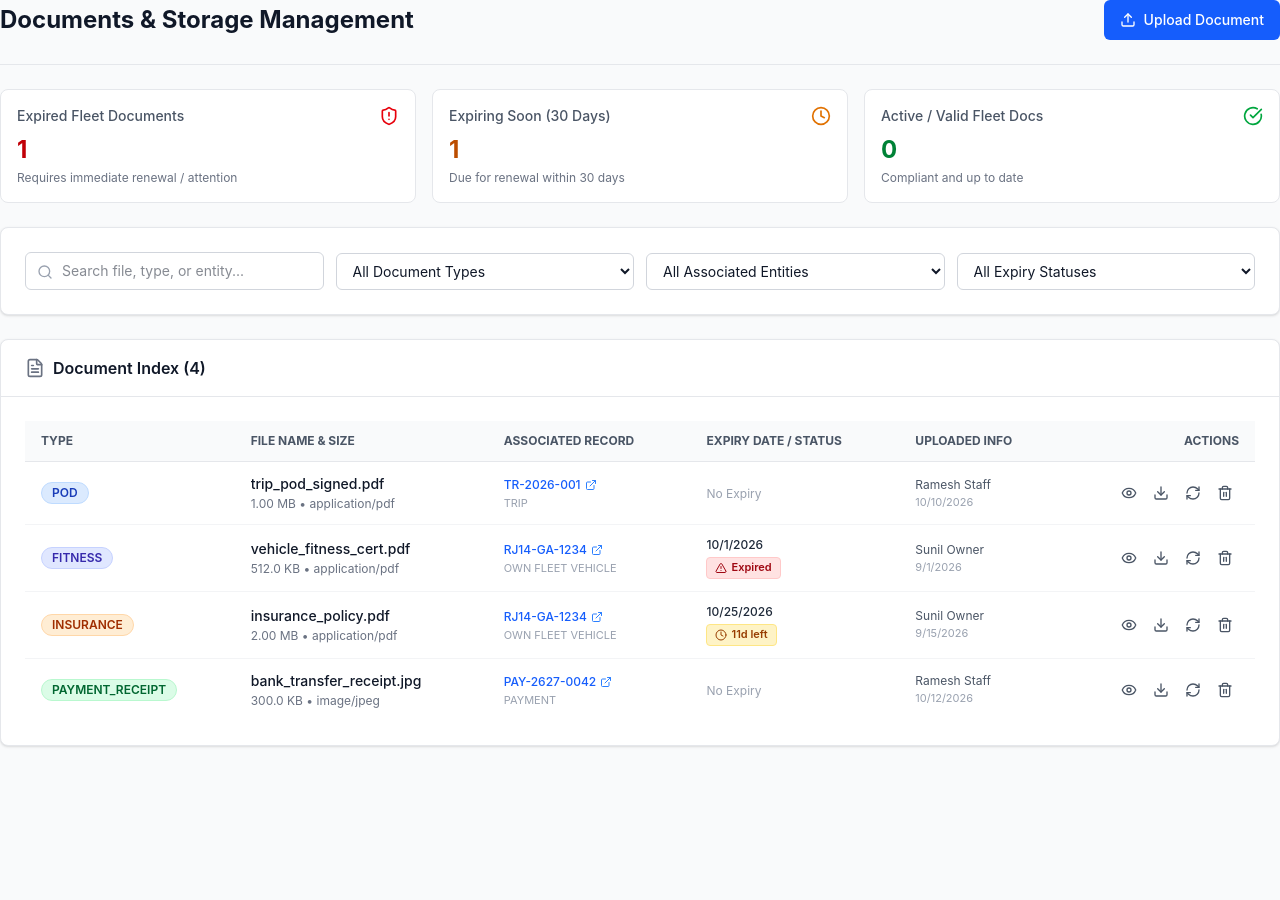
it: Documents & Storage Management Page (Phase 4N) › Preview & Download Modal › gracefully handles missing storage file with user-friendly 404 alert
This screenshot has width=1280, height=900.
Expected: the text "Document Index (4)" is shown, [53,356,206,380]
Click the button titled "Preview Document" in the row of "trip_pod_signed.pdf": (1129, 493) [1115,475,1143,511]
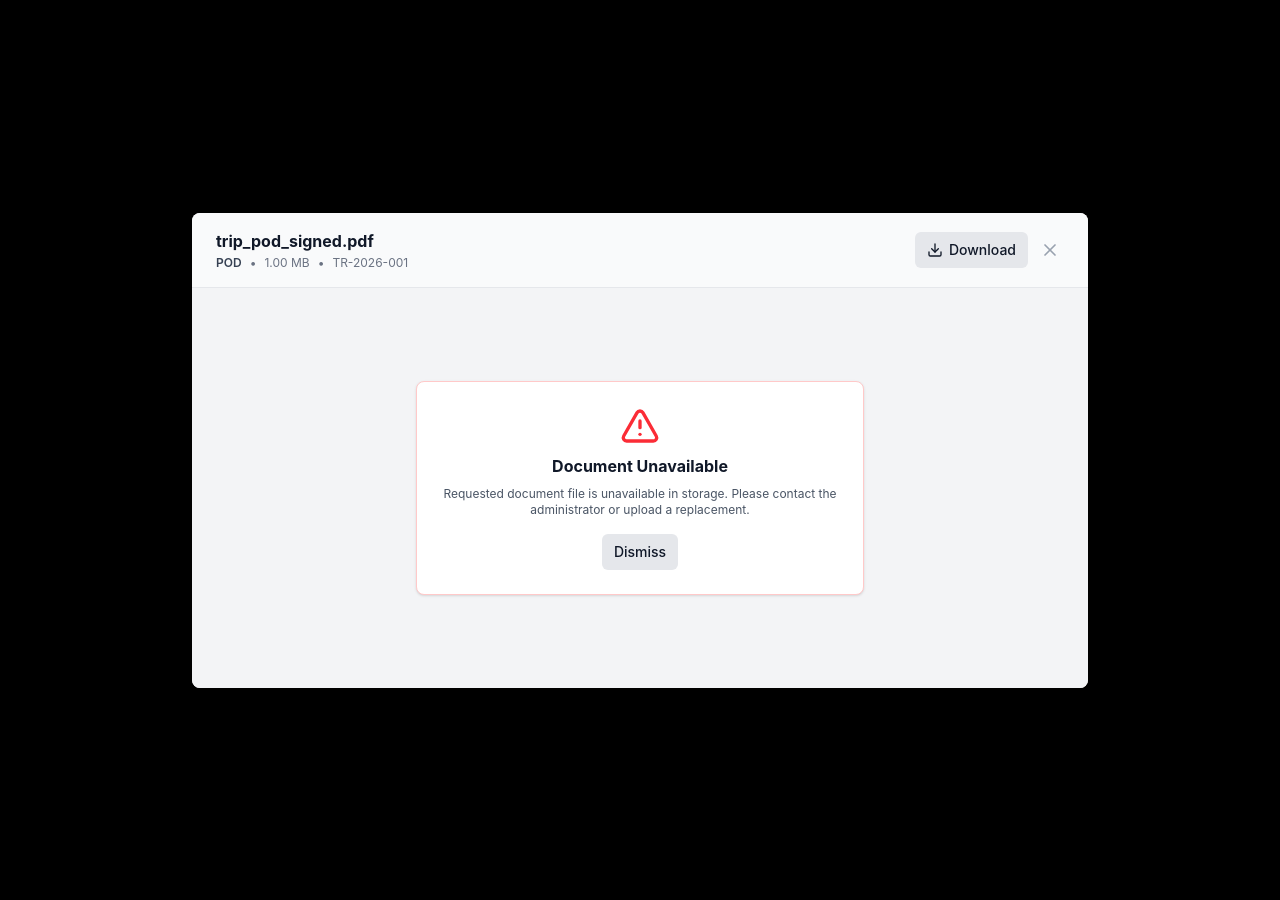
Expected: the heading "Document Unavailable" is shown, [552,456,728,476]
Expected: the text "Requested document file is unavailable in storage" is shown, [443,486,836,516]
